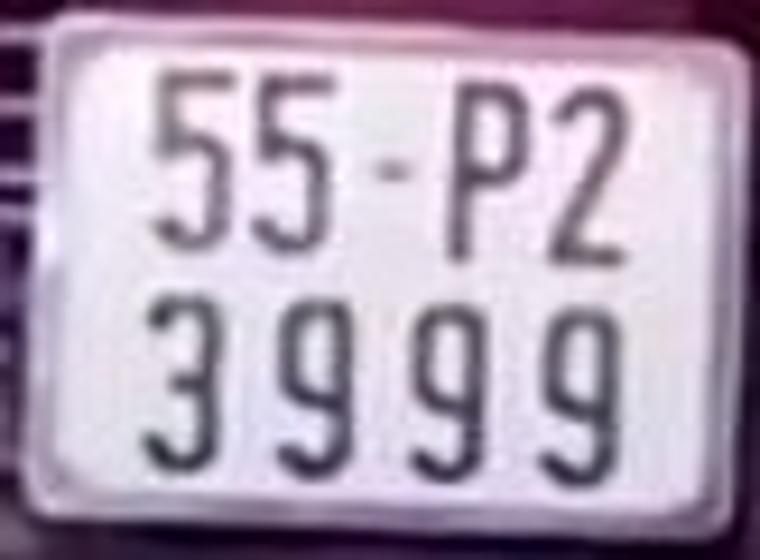-: (368, 157, 421, 182)
2: (551, 81, 630, 274)
3: (139, 290, 224, 472)
5: (152, 67, 232, 252), (247, 69, 328, 249)
9: (269, 294, 357, 483), (535, 299, 621, 489), (405, 295, 488, 487)
P: (443, 75, 530, 267)
